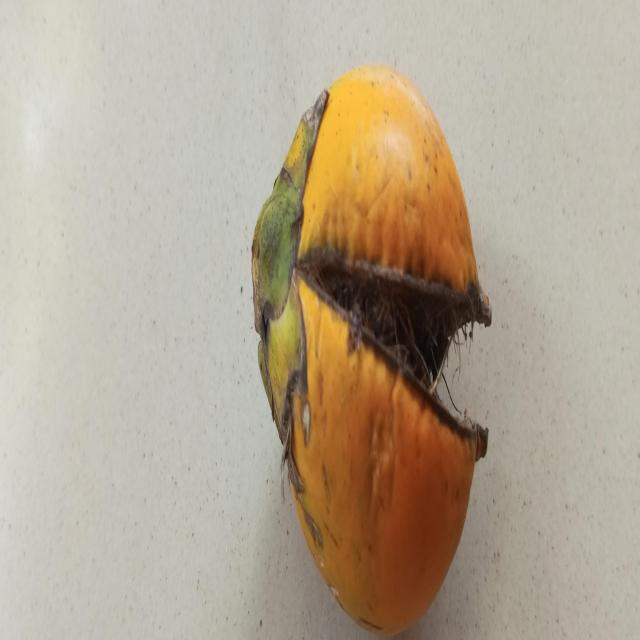damaged: (251, 66, 492, 636)
